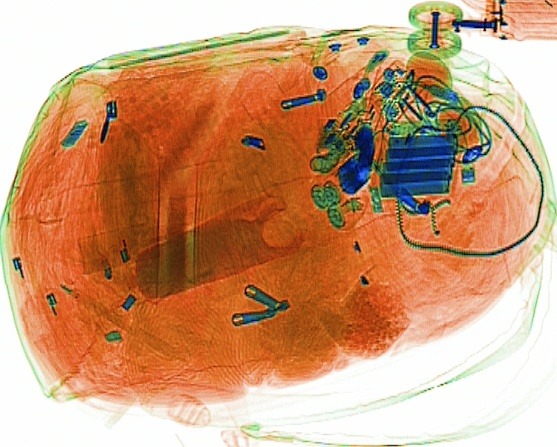powerbank: (375, 115, 466, 202)
